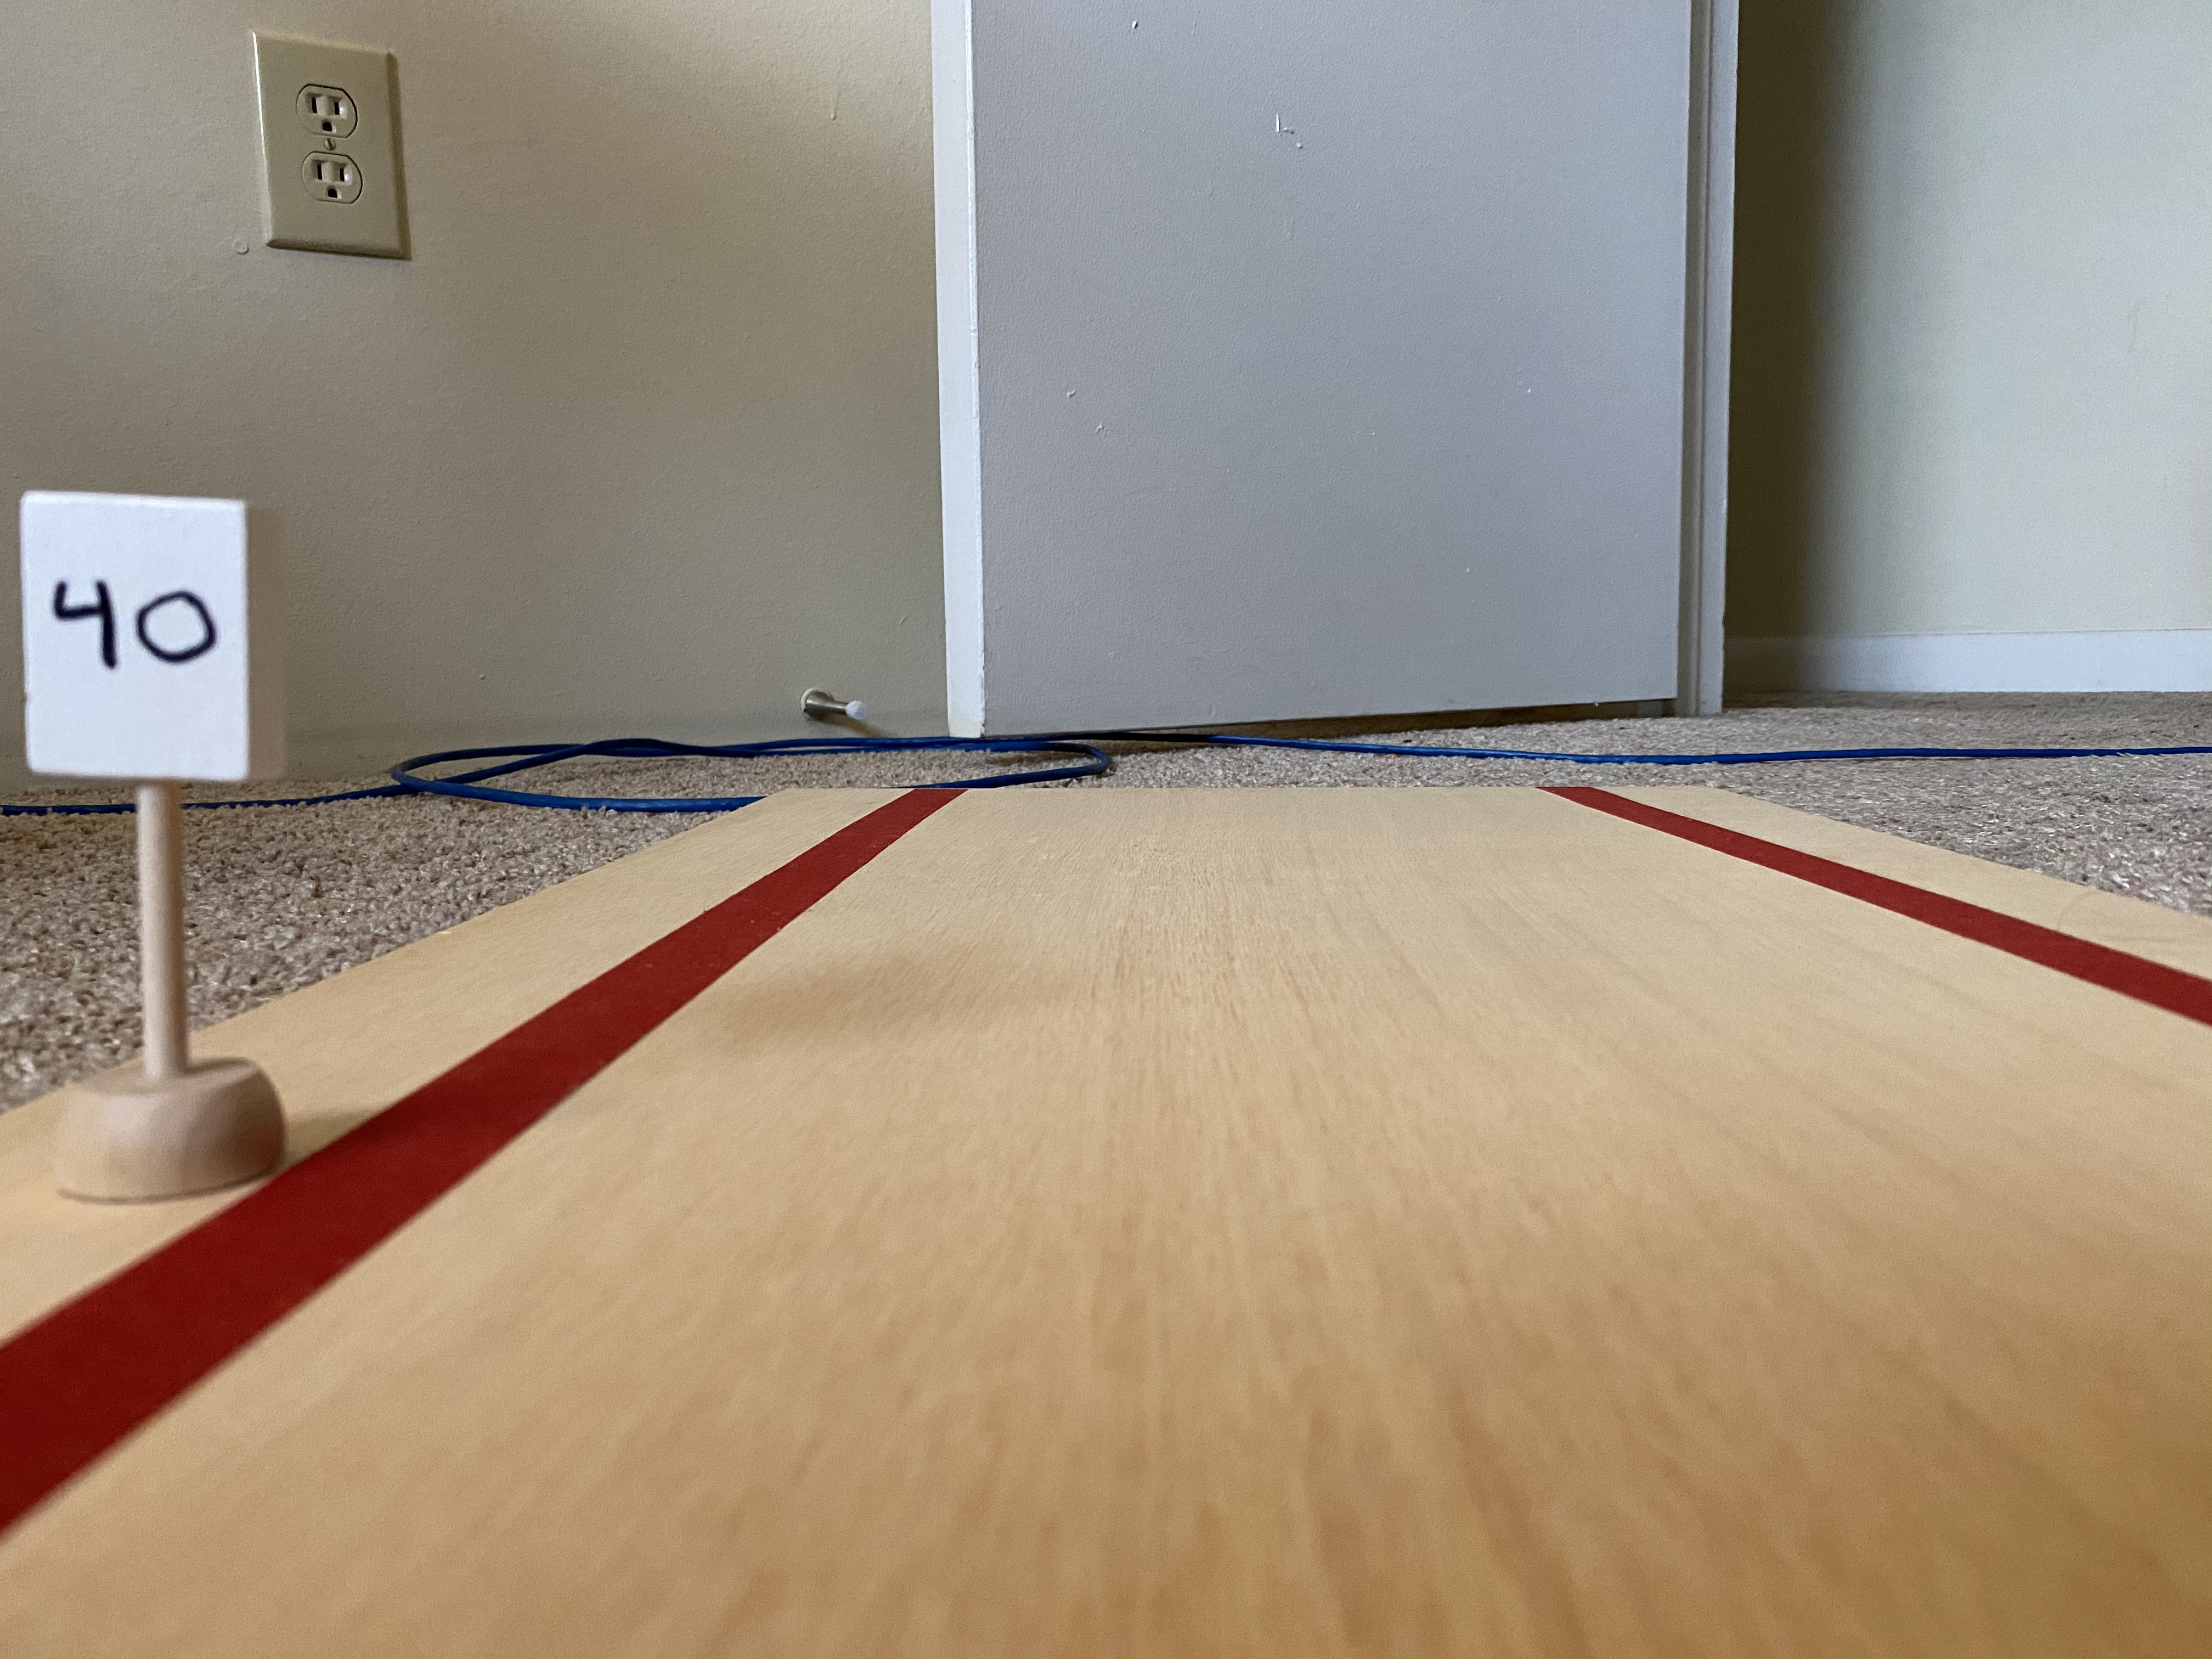Speed Limit 40: (3, 460, 282, 810)
